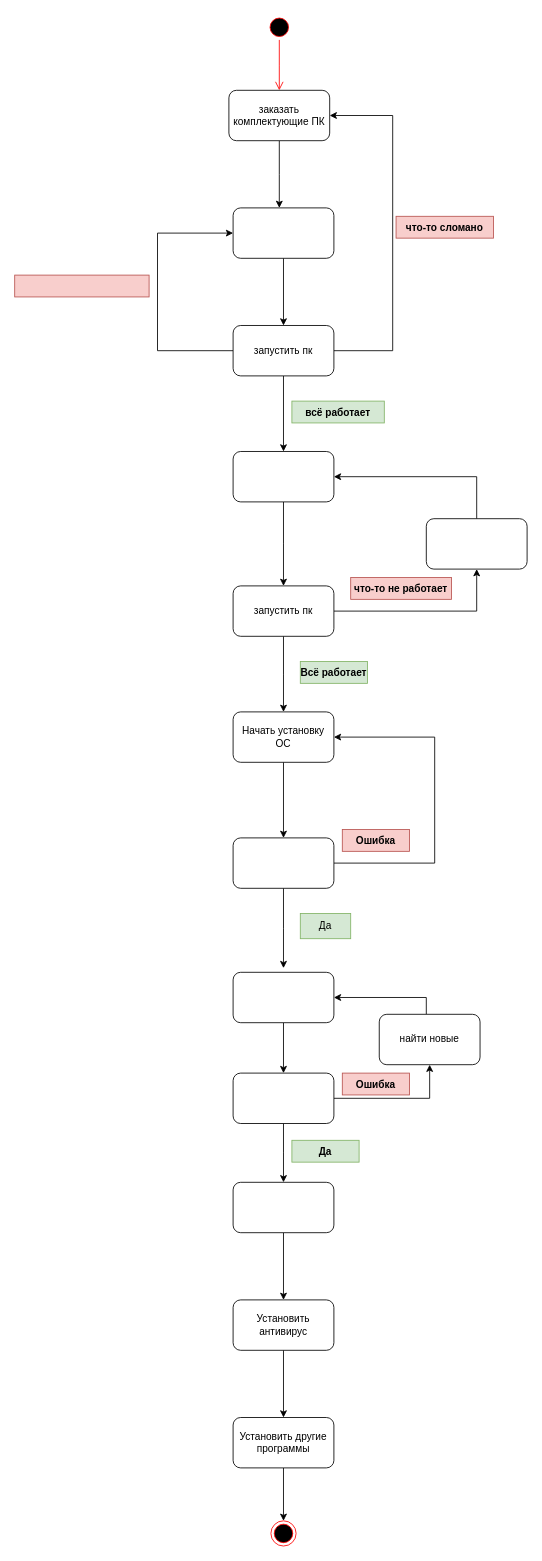
The diagram is 542 pixels wide and 1561 high, and some of its shapes have lost their labels. The shapes that lost their labels are listed below. From the top down, each one's centre as x and y in pixels, then its label:
the point at 283,232: подключить комплектующие
the point at 81,285: что-то плохо подключено
the point at 283,476: Подключить - монитор - мышь - клавиатуру
the point at 476,543: заказать новые
the point at 283,862: ОС успешно установлена?
the point at 283,997: Установить драйвера
the point at 283,1098: Все драйвера установлены?
the point at 283,1207: Установить бразуер
